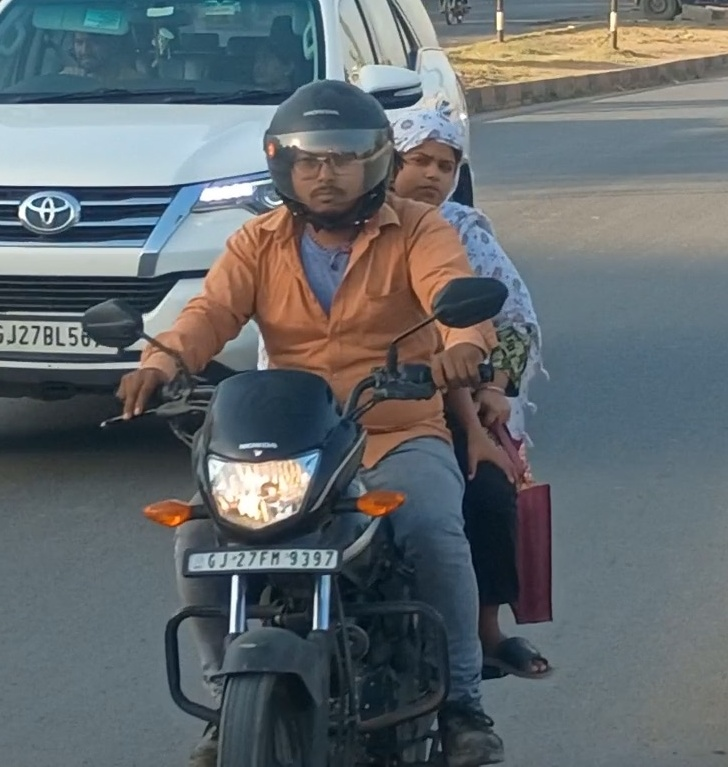BikeWithRider: (76, 71, 565, 767)
Helmet: (258, 73, 401, 237)
NoHelmet: (381, 109, 471, 212)
